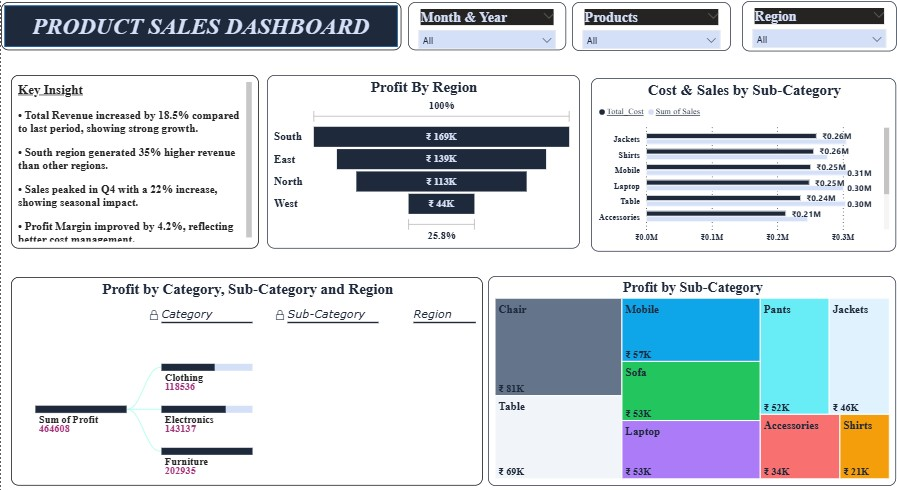

What the dashboard file says about the page in this screenshot:
{"tool":"powerbi","page":{"name":"Page 2","canvas":[1280,720],"ordinal":1},"visuals":[{"type":"textbox","box":[14.7,107.3,354.1,248.3],"z":0},{"type":"decompositionTreeVisual","title":"Profit by Category, Sub-Category and Region","fields":{"ExplainBy":["Sales_Dataset.Category","Sales_Dataset.Sub-Category","Sales_Dataset.Region"],"Analyze":["Sum(Sales_Dataset.Profit)"]},"box":[14.7,395.3,674.4,298.3],"z":1000},{"type":"treemap","title":"Profit by Sub-Category","fields":{"Values":["Sales_Dataset.Total_Profit"],"Group":["Sales_Dataset.Sub-Category"]},"box":[695,393.8,583.3,299.8],"z":2000},{"type":"slicer","fields":{"Values":["Data_Table.Month Name","Data_Table.Year"]},"box":[581.2,2.6,226.5,69.4],"z":3000},{"type":"shape","box":[0,2.9,571.6,69.1],"z":4000},{"type":"slicer","fields":{"Values":["Sales_Dataset.Sub-Category","Sales_Dataset.Category"]},"box":[816.4,3,226.9,70.1],"z":5000},{"type":"slicer","fields":{"Values":["Sales_Dataset.Region"]},"box":[1058.2,1.5,220.9,71.6],"z":6000},{"type":"funnel","title":"Profit By Region","fields":{"Category":["Sales_Dataset.Region"],"Y":["Sales_Dataset.Total_Profit"]},"box":[380.6,107.3,446.7,248.3],"z":7000},{"type":"clusteredBarChart","title":"Cost & Sales by Sub-Category","fields":{"Y":["Sales_Dataset.Total_Cost","Sum(Sales_Dataset.Sales)"],"Category":["Sales_Dataset.Sub-Category"]},"box":[843.4,111.7,436.4,248.3],"z":8000}]}

Visuals, with their boxes in screenshot pixels (x1, y1, x2, y2), scaled from the page's 1280x720 canvas onto the 897x490 screenshot:
textbox: 10,73,258,242
"Profit by Category, Sub-Category and Region" decompositionTreeVisual: 10,269,483,472
"Profit by Sub-Category" treemap: 487,268,896,472
slicer - Data_Table.Month Name x Data_Table.Year: 407,2,566,49
shape: 0,2,401,49
slicer - Sales_Dataset.Sub-Category x Sales_Dataset.Category: 572,2,731,50
slicer - Sales_Dataset.Region: 742,1,896,50
"Profit By Region" funnel: 267,73,580,242
"Cost & Sales by Sub-Category" clusteredBarChart: 591,76,896,245
